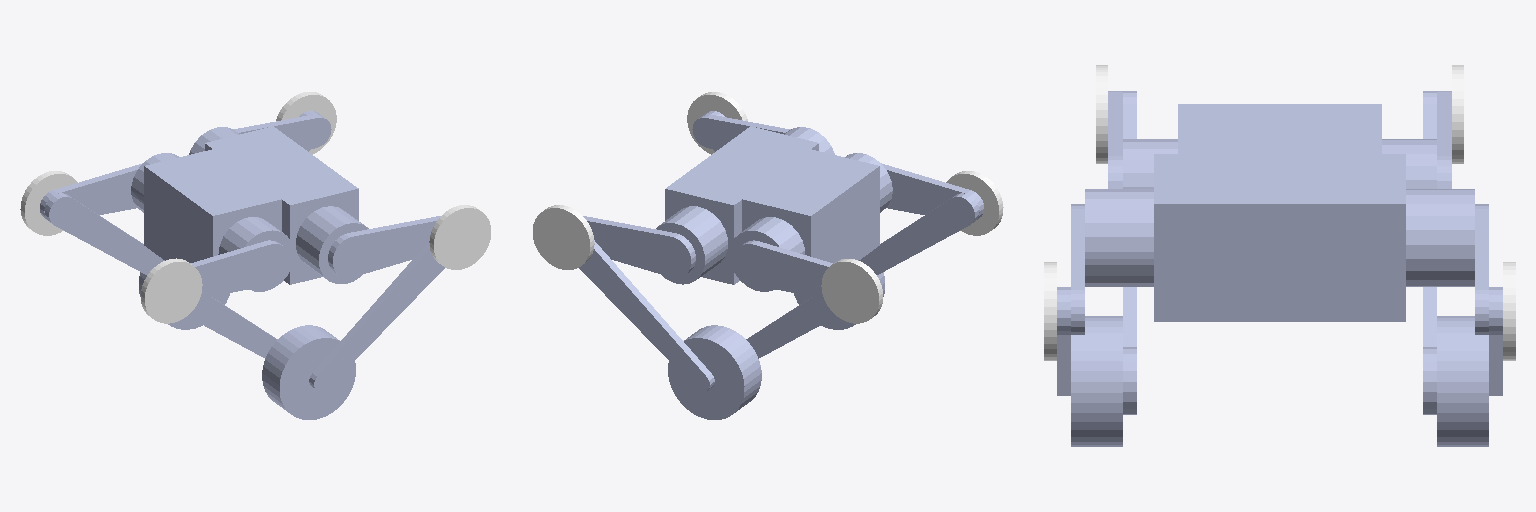
URDF robot description (fuzhulun):
<?xml version="1.0" encoding="utf-8"?>
<!-- This URDF was automatically created by SolidWorks to URDF Exporter! Originally created by [author] ([email redacted]) 
     Commit Version: 1.6.0-1-g15f4949  Build Version: 1.6.7594.29634
     For more information, please see http://wiki.ros.org/sw_urdf_exporter -->
<robot
  name="fuzhulun">
  <link
    name="base_link">
    <inertial>
      <origin
        xyz="7.9958716180818E-18 3.64890254428671E-18 -3.02970844583317E-18"
        rpy="0 0 0" />
      <mass
        value="4.563502045004" />
      <inertia
        ixx="0.0280984473320404"
        ixy="7.92687311370769E-17"
        ixz="2.14694526373619E-20"
        iyy="0.0169477927066625"
        iyz="1.08880015646914E-18"
        izz="0.0376783082336192" />
    </inertial>
    <visual>
      <origin
        xyz="0 0 0"
        rpy="0 0 0" />
      <geometry>
        <mesh
          filename="package://fuzhulun/meshes/base_link.STL" />
      </geometry>
      <material
        name="">
        <color
          rgba="0.792156862745098 0.819607843137255 0.933333333333333 1" />
      </material>
    </visual>
    <collision>
      <origin
        xyz="0 0 0"
        rpy="0 0 0" />
      <geometry>
        <mesh
          filename="package://fuzhulun/meshes/base_link.STL" />
      </geometry>
    </collision>
  </link>
  <link
    name="hip2thigh_lf">
    <inertial>
      <origin
        xyz="6.24976908737392E-18 -0.0614074661588189 -0.00575000000000156"
        rpy="0 0 0" />
      <mass
        value="0.0599999613849592" />
      <inertia
        ixx="0.000155906508351339"
        ixy="2.92696874835396E-21"
        ixz="-9.35046804636312E-21"
        iyy="1.13512134874171E-05"
        iyz="-7.89521073851116E-19"
        izz="0.000165935222689896" />
    </inertial>
    <visual>
      <origin
        xyz="0 0 0"
        rpy="0 0 0" />
      <geometry>
        <mesh
          filename="package://fuzhulun/meshes/hip2thigh_lf.STL" />
      </geometry>
      <material
        name="">
        <color
          rgba="0.792156862745098 0.819607843137255 0.933333333333333 1" />
      </material>
    </visual>
    <collision>
      <origin
        xyz="0 0 0"
        rpy="0 0 0" />
      <geometry>
        <mesh
          filename="package://fuzhulun/meshes/hip2thigh_lf.STL" />
      </geometry>
    </collision>
  </link>
  <joint
    name="hip_lf"
    type="continuous">
    <origin
      xyz="0.0424247110394242 0.156999999999999 0"
      rpy="1.5707963267949 -1.5707963267949 0" />
    <parent
      link="base_link" />
    <child
      link="hip2thigh_lf" />
    <axis
      xyz="0 0 1" />
  </joint>
  <link
    name="thigh2leg_lf">
    <inertial>
      <origin
        xyz="0 -0.10564758516642 -0.00575000000000064"
        rpy="0 0 0" />
      <mass
        value="0.0763000411167859" />
      <inertia
        ixx="0.000437218386664755"
        ixy="1.6940658945086E-21"
        ixz="1.95072209959967E-20"
        iyy="7.44363321133753E-06"
        iyz="1.46010727006436E-18"
        izz="0.000442980239803143" />
    </inertial>
    <visual>
      <origin
        xyz="0 0 0"
        rpy="0 0 0" />
      <geometry>
        <mesh
          filename="package://fuzhulun/meshes/thigh2leg_lf.STL" />
      </geometry>
      <material
        name="">
        <color
          rgba="0.792156862745098 0.819607843137255 0.933333333333333 1" />
      </material>
    </visual>
    <collision>
      <origin
        xyz="0 0 0"
        rpy="0 0 0" />
      <geometry>
        <mesh
          filename="package://fuzhulun/meshes/thigh2leg_lf.STL" />
      </geometry>
    </collision>
  </link>
  <joint
    name="knee_lf"
    type="continuous">
    <origin
      xyz="0 -0.14 -0.011500000000001"
      rpy="0 0 -2.46746214692248" />
    <parent
      link="hip2thigh_lf" />
    <child
      link="thigh2leg_lf" />
    <axis
      xyz="0 0 1" />
  </joint>
  <link
    name="leg2wheel_lf">
    <inertial>
      <origin
        xyz="6.41847686111419E-17 -8.32667268468867E-17 0.0207499999999986"
        rpy="0 0 0" />
      <mass
        value="0.521949966745835" />
      <inertia
        ixx="0.000441450058332931"
        ixy="-1.6940658945086E-21"
        ixz="2.07466425242616E-18"
        iyy="0.000441450058332931"
        iyz="-3.38231691806901E-20"
        izz="0.000733078728294525" />
    </inertial>
    <visual>
      <origin
        xyz="0 0 0"
        rpy="0 0 0" />
      <geometry>
        <mesh
          filename="package://fuzhulun/meshes/leg2wheel_lf.STL" />
      </geometry>
      <material
        name="">
        <color
          rgba="0.792156862745098 0.819607843137255 0.933333333333333 1" />
      </material>
    </visual>
    <collision>
      <origin
        xyz="0 0 0"
        rpy="0 0 0" />
      <geometry>
        <mesh
          filename="package://fuzhulun/meshes/leg2wheel_lf.STL" />
      </geometry>
    </collision>
  </link>
  <joint
    name="foot_lf"
    type="continuous">
    <origin
      xyz="0 -0.24 0"
      rpy="0 0 0.827377338905804" />
    <parent
      link="thigh2leg_lf" />
    <child
      link="leg2wheel_lf" />
    <axis
      xyz="0 0 1" />
  </joint>
  <link
    name="fuzhu_lf">
    <inertial>
      <origin
        xyz="-2.77555756156289E-17 -0.00500000000000037 -4.98255987470369E-18"
        rpy="0 0 0" />
      <mass
        value="0.0502654824574367" />
      <inertia
        ixx="2.05250720034533E-05"
        ixy="9.8478934528487E-20"
        ixz="-1.40981284252305E-35"
        iyy="4.02123859659494E-05"
        iyz="1.03737707309376E-21"
        izz="2.05250720034533E-05" />
    </inertial>
    <visual>
      <origin
        xyz="0 0 0"
        rpy="0 0 0" />
      <geometry>
        <mesh
          filename="package://fuzhulun/meshes/fuzhu_lf.STL" />
      </geometry>
      <material
        name="">
        <color
          rgba="1 1 1 1" />
      </material>
    </visual>
    <collision>
      <origin
        xyz="0 0 0"
        rpy="0 0 0" />
      <geometry>
        <mesh
          filename="package://fuzhulun/meshes/fuzhu_lf.STL" />
      </geometry>
    </collision>
  </link>
  <joint
    name="fuzhu_lf"
    type="continuous">
    <origin
      xyz="0 -0.14 -0.0230000000000016"
      rpy="1.5707963267949 0 -1.5707963267949" />
    <parent
      link="hip2thigh_lf" />
    <child
      link="fuzhu_lf" />
    <axis
      xyz="0 1 0" />
  </joint>
  <link
    name="hip2thigh_lb">
    <inertial>
      <origin
        xyz="-2.49021734345051E-18 -0.061407466158819 -0.0057500000000007"
        rpy="0 0 0" />
      <mass
        value="0.0539995474696858" />
      <inertia
        ixx="0.000140314771946862"
        ixy="-7.37238832554498E-21"
        ixz="6.14097015851312E-21"
        iyy="1.02160131007346E-05"
        iyz="6.95254959420047E-19"
        izz="0.000149340545022119" />
    </inertial>
    <visual>
      <origin
        xyz="0 0 0"
        rpy="0 0 0" />
      <geometry>
        <mesh
          filename="package://fuzhulun/meshes/hip2thigh_lb.STL" />
      </geometry>
      <material
        name="">
        <color
          rgba="0.792156862745098 0.819607843137255 0.933333333333333 1" />
      </material>
    </visual>
    <collision>
      <origin
        xyz="0 0 0"
        rpy="0 0 0" />
      <geometry>
        <mesh
          filename="package://fuzhulun/meshes/hip2thigh_lb.STL" />
      </geometry>
    </collision>
  </link>
  <joint
    name="hip_lb"
    type="continuous">
    <origin
      xyz="-0.0525752889605756 0.126999999999999 0"
      rpy="1.5707963267949 1.5707963267949 0" />
    <parent
      link="base_link" />
    <child
      link="hip2thigh_lb" />
    <axis
      xyz="0 0 1" />
  </joint>
  <link
    name="thigh2leg_lb">
    <inertial>
      <origin
        xyz="2.77555756156289E-17 -0.126725289376484 0.00574999999999845"
        rpy="0 0 0" />
      <mass
        value="0.0750000161747868" />
      <inertia
        ixx="0.000553987900915235"
        ixy="-6.69156028330897E-20"
        ixz="1.65224254282299E-20"
        iyy="9.43756802822456E-06"
        iyz="-3.30067795311841E-18"
        izz="0.00056177234358694" />
    </inertial>
    <visual>
      <origin
        xyz="0 0 0"
        rpy="0 0 0" />
      <geometry>
        <mesh
          filename="package://fuzhulun/meshes/thigh2leg_lb.STL" />
      </geometry>
      <material
        name="">
        <color
          rgba="0.792156862745098 0.819607843137255 0.933333333333333 1" />
      </material>
    </visual>
    <collision>
      <origin
        xyz="0 0 0"
        rpy="0 0 0" />
      <geometry>
        <mesh
          filename="package://fuzhulun/meshes/thigh2leg_lb.STL" />
      </geometry>
    </collision>
  </link>
  <joint
    name="knee_lb"
    type="continuous">
    <origin
      xyz="0 -0.14 0"
      rpy="0 0 2.46746214692248" />
    <parent
      link="hip2thigh_lb" />
    <child
      link="thigh2leg_lb" />
    <axis
      xyz="0 0 1" />
  </joint>
  <link
    name="leg2wheel_lb">
    <inertial>
      <origin
        xyz="-1.15359111152458E-16 -5.55111512312578E-17 -0.0207500000000007"
        rpy="0 0 0" />
      <mass
        value="0.521949966745835" />
      <inertia
        ixx="0.000441450058332931"
        ixy="-1.6940658945086E-21"
        ixz="2.07466425242616E-18"
        iyy="0.000441450058332931"
        iyz="-3.38231691806901E-20"
        izz="0.000733078728294525" />
    </inertial>
    <visual>
      <origin
        xyz="0 0 0"
        rpy="0 0 0" />
      <geometry>
        <mesh
          filename="package://fuzhulun/meshes/leg2wheel_lb.STL" />
      </geometry>
      <material
        name="">
        <color
          rgba="0.792156862745098 0.819607843137255 0.933333333333333 1" />
      </material>
    </visual>
    <collision>
      <origin
        xyz="0 0 0"
        rpy="0 0 0" />
      <geometry>
        <mesh
          filename="package://fuzhulun/meshes/leg2wheel_lb.STL" />
      </geometry>
    </collision>
  </link>
  <joint
    name="foot_lb"
    type="continuous">
    <origin
      xyz="0 -0.24 0"
      rpy="0 0 -0.965954301349358" />
    <parent
      link="thigh2leg_lb" />
    <child
      link="leg2wheel_lb" />
    <axis
      xyz="0 0 1" />
  </joint>
  <link
    name="fuzhu_lb">
    <inertial>
      <origin
        xyz="0 -0.00500000000000037 -9.42649753526637E-18"
        rpy="0 0 0" />
      <mass
        value="0.0502654824574367" />
      <inertia
        ixx="2.05250720034533E-05"
        ixy="9.73487745361297E-20"
        ixz="-8.7119466438191E-36"
        iyy="4.02123859659494E-05"
        iyz="5.77840026526481E-22"
        izz="2.05250720034533E-05" />
    </inertial>
    <visual>
      <origin
        xyz="0 0 0"
        rpy="0 0 0" />
      <geometry>
        <mesh
          filename="package://fuzhulun/meshes/fuzhu_lb.STL" />
      </geometry>
      <material
        name="">
        <color
          rgba="1 1 1 1" />
      </material>
    </visual>
    <collision>
      <origin
        xyz="0 0 0"
        rpy="0 0 0" />
      <geometry>
        <mesh
          filename="package://fuzhulun/meshes/fuzhu_lb.STL" />
      </geometry>
    </collision>
  </link>
  <joint
    name="fuzhu_lb"
    type="continuous">
    <origin
      xyz="0 -0.14 -0.0114999999999999"
      rpy="1.5707963267949 0 1.5707963267949" />
    <parent
      link="hip2thigh_lb" />
    <child
      link="fuzhu_lb" />
    <axis
      xyz="0 1 0" />
  </joint>
  <link
    name="hip2thigh_rf">
    <inertial>
      <origin
        xyz="3.75999866151112E-18 -0.061407466158819 0.00575000000000089"
        rpy="0 0 0" />
      <mass
        value="0.0599999613849593" />
      <inertia
        ixx="0.000155906508351339"
        ixy="9.66236293584646E-21"
        ixz="3.73574741794009E-24"
        iyy="1.13512134874171E-05"
        iyz="-1.08505463679496E-18"
        izz="0.000165935222689896" />
    </inertial>
    <visual>
      <origin
        xyz="0 0 0"
        rpy="0 0 0" />
      <geometry>
        <mesh
          filename="package://fuzhulun/meshes/hip2thigh_rf.STL" />
      </geometry>
      <material
        name="">
        <color
          rgba="0.792156862745098 0.819607843137255 0.933333333333333 1" />
      </material>
    </visual>
    <collision>
      <origin
        xyz="0 0 0"
        rpy="0 0 0" />
      <geometry>
        <mesh
          filename="package://fuzhulun/meshes/hip2thigh_rf.STL" />
      </geometry>
    </collision>
  </link>
  <joint
    name="hip_rf"
    type="continuous">
    <origin
      xyz="0.0424247110394264 -0.156999999999998 0"
      rpy="1.5707963267949 -1.5707963267949 0" />
    <parent
      link="base_link" />
    <child
      link="hip2thigh_rf" />
    <axis
      xyz="0 0 1" />
  </joint>
  <link
    name="thigh2leg_rf">
    <inertial>
      <origin
        xyz="2.77555756156289E-17 -0.10564758516642 0.00575000000000223"
        rpy="0 0 0" />
      <mass
        value="0.0763000411167858" />
      <inertia
        ixx="0.000437218386664754"
        ixy="-5.12454933088852E-20"
        ixz="2.47536067446951E-20"
        iyy="7.44363321133746E-06"
        iyz="2.37295512587168E-18"
        izz="0.000442980239803142" />
    </inertial>
    <visual>
      <origin
        xyz="0 0 0"
        rpy="0 0 0" />
      <geometry>
        <mesh
          filename="package://fuzhulun/meshes/thigh2leg_rf.STL" />
      </geometry>
      <material
        name="">
        <color
          rgba="0.792156862745098 0.819607843137255 0.933333333333333 1" />
      </material>
    </visual>
    <collision>
      <origin
        xyz="0 0 0"
        rpy="0 0 0" />
      <geometry>
        <mesh
          filename="package://fuzhulun/meshes/thigh2leg_rf.STL" />
      </geometry>
    </collision>
  </link>
  <joint
    name="knee_rf"
    type="continuous">
    <origin
      xyz="0 -0.14 0.0114999999999986"
      rpy="0 0 -2.46746214692248" />
    <parent
      link="hip2thigh_rf" />
    <child
      link="thigh2leg_rf" />
    <axis
      xyz="0 0 1" />
  </joint>
  <link
    name="leg2wheel_rf">
    <inertial>
      <origin
        xyz="5.55111512312578E-17 -1.2490009027033E-16 -0.0207499999999983"
        rpy="0 0 0" />
      <mass
        value="0.521949966745835" />
      <inertia
        ixx="0.00044145005833293"
        ixy="-6.7762635780344E-20"
        ixz="-9.00265480038554E-19"
        iyy="0.00044145005833293"
        iyz="1.86202171434693E-18"
        izz="0.000733078728294525" />
    </inertial>
    <visual>
      <origin
        xyz="0 0 0"
        rpy="0 0 0" />
      <geometry>
        <mesh
          filename="package://fuzhulun/meshes/leg2wheel_rf.STL" />
      </geometry>
      <material
        name="">
        <color
          rgba="0.792156862745098 0.819607843137255 0.933333333333333 1" />
      </material>
    </visual>
    <collision>
      <origin
        xyz="0 0 0"
        rpy="0 0 0" />
      <geometry>
        <mesh
          filename="package://fuzhulun/meshes/leg2wheel_rf.STL" />
      </geometry>
    </collision>
  </link>
  <joint
    name="foot_rf"
    type="continuous">
    <origin
      xyz="0 -0.24 0"
      rpy="0 0 -1.15869988791543" />
    <parent
      link="thigh2leg_rf" />
    <child
      link="leg2wheel_rf" />
    <axis
      xyz="0 0 1" />
  </joint>
  <link
    name="fuzhu_rf">
    <inertial>
      <origin
        xyz="0 -0.00500000000000056 1.37521984268062E-19"
        rpy="0 0 0" />
      <mass
        value="0.0502654824574367" />
      <inertia
        ixx="2.05250720034533E-05"
        ixy="-1.41793480672378E-19"
        ixz="-6.23687945093439E-35"
        iyy="4.02123859659494E-05"
        iyz="-1.44348156630938E-21"
        izz="2.05250720034533E-05" />
    </inertial>
    <visual>
      <origin
        xyz="0 0 0"
        rpy="0 0 0" />
      <geometry>
        <mesh
          filename="package://fuzhulun/meshes/fuzhu_rf.STL" />
      </geometry>
      <material
        name="">
        <color
          rgba="1 1 1 1" />
      </material>
    </visual>
    <collision>
      <origin
        xyz="0 0 0"
        rpy="0 0 0" />
      <geometry>
        <mesh
          filename="package://fuzhulun/meshes/fuzhu_rf.STL" />
      </geometry>
    </collision>
  </link>
  <joint
    name="fuzhu_rf"
    type="continuous">
    <origin
      xyz="0 -0.14 0.0229999999999997"
      rpy="-1.5707963267949 0 -1.5707963267949" />
    <parent
      link="hip2thigh_rf" />
    <child
      link="fuzhu_rf" />
    <axis
      xyz="0 -1 0" />
  </joint>
  <link
    name="hip2thigh_rb">
    <inertial>
      <origin
        xyz="2.6269664293846E-18 -0.0614074661588188 0.0057500000000017"
        rpy="0 0 0" />
      <mass
        value="0.0539995474696858" />
      <inertia
        ixx="0.000140314771946862"
        ixy="8.79161511338388E-21"
        ixz="-8.22543354868634E-23"
        iyy="1.02160131007346E-05"
        iyz="9.6713939187654E-19"
        izz="0.000149340545022119" />
    </inertial>
    <visual>
      <origin
        xyz="0 0 0"
        rpy="0 0 0" />
      <geometry>
        <mesh
          filename="package://fuzhulun/meshes/hip2thigh_rb.STL" />
      </geometry>
      <material
        name="">
        <color
          rgba="0.792156862745098 0.819607843137255 0.933333333333333 1" />
      </material>
    </visual>
    <collision>
      <origin
        xyz="0 0 0"
        rpy="0 0 0" />
      <geometry>
        <mesh
          filename="package://fuzhulun/meshes/hip2thigh_rb.STL" />
      </geometry>
    </collision>
  </link>
  <joint
    name="hip_rb"
    type="continuous">
    <origin
      xyz="-0.0525752889605738 -0.126999999999999 0"
      rpy="1.5707963267949 1.5707963267949 0" />
    <parent
      link="base_link" />
    <child
      link="hip2thigh_rb" />
    <axis
      xyz="0 0 1" />
  </joint>
  <link
    name="thigh2leg_rb">
    <inertial>
      <origin
        xyz="1.38777878078145E-17 -0.126725289376484 -0.00574999999999939"
        rpy="0 0 0" />
      <mass
        value="0.0750000161747868" />
      <inertia
        ixx="0.000553987900915235"
        ixy="8.173867941004E-20"
        ixz="3.55063939914085E-20"
        iyy="9.43756802822453E-06"
        iyz="-3.08532383538705E-18"
        izz="0.00056177234358694" />
    </inertial>
    <visual>
      <origin
        xyz="0 0 0"
        rpy="0 0 0" />
      <geometry>
        <mesh
          filename="package://fuzhulun/meshes/thigh2leg_rb.STL" />
      </geometry>
      <material
        name="">
        <color
          rgba="0.792156862745098 0.819607843137255 0.933333333333333 1" />
      </material>
    </visual>
    <collision>
      <origin
        xyz="0 0 0"
        rpy="0 0 0" />
      <geometry>
        <mesh
          filename="package://fuzhulun/meshes/thigh2leg_rb.STL" />
      </geometry>
    </collision>
  </link>
  <joint
    name="knee_rb"
    type="continuous">
    <origin
      xyz="0 -0.14 0"
      rpy="0 0 2.46746214692248" />
    <parent
      link="hip2thigh_rb" />
    <child
      link="thigh2leg_rb" />
    <axis
      xyz="0 0 1" />
  </joint>
  <link
    name="leg2wheel_rb">
    <inertial>
      <origin
        xyz="-8.32667268468867E-17 1.2490009027033E-16 0.020750000000001"
        rpy="0 0 0" />
      <mass
        value="0.521949966745835" />
      <inertia
        ixx="0.00044145005833293"
        ixy="-6.7762635780344E-20"
        ixz="-9.00265480038554E-19"
        iyy="0.00044145005833293"
        iyz="1.86202171434693E-18"
        izz="0.000733078728294525" />
    </inertial>
    <visual>
      <origin
        xyz="0 0 0"
        rpy="0 0 0" />
      <geometry>
        <mesh
          filename="package://fuzhulun/meshes/leg2wheel_rb.STL" />
      </geometry>
      <material
        name="">
        <color
          rgba="0.792156862745098 0.819607843137255 0.933333333333333 1" />
      </material>
    </visual>
    <collision>
      <origin
        xyz="0 0 0"
        rpy="0 0 0" />
      <geometry>
        <mesh
          filename="package://fuzhulun/meshes/leg2wheel_rb.STL" />
      </geometry>
    </collision>
  </link>
  <joint
    name="foot_rb"
    type="continuous">
    <origin
      xyz="0 -0.24 0"
      rpy="0 0 -2.95203152817059" />
    <parent
      link="thigh2leg_rb" />
    <child
      link="leg2wheel_rb" />
    <axis
      xyz="0 0 1" />
  </joint>
  <link
    name="fuzhu_rb">
    <inertial>
      <origin
        xyz="-5.55111512312578E-17 -0.00500000000000056 -1.81618792017544E-18"
        rpy="0 0 0" />
      <mass
        value="0.0502654824574367" />
      <inertia
        ixx="2.05250720034533E-05"
        ixy="-1.37064390769696E-19"
        ixz="-3.54309943894681E-35"
        iyy="4.02123859659494E-05"
        iyz="-1.15312764943136E-21"
        izz="2.05250720034533E-05" />
    </inertial>
    <visual>
      <origin
        xyz="0 0 0"
        rpy="0 0 0" />
      <geometry>
        <mesh
          filename="package://fuzhulun/meshes/fuzhu_rb.STL" />
      </geometry>
      <material
        name="">
        <color
          rgba="1 1 1 1" />
      </material>
    </visual>
    <collision>
      <origin
        xyz="0 0 0"
        rpy="0 0 0" />
      <geometry>
        <mesh
          filename="package://fuzhulun/meshes/fuzhu_rb.STL" />
      </geometry>
    </collision>
  </link>
  <joint
    name="fuzhu_rb"
    type="continuous">
    <origin
      xyz="0 -0.14 0.0115000000000017"
      rpy="-1.5707963267949 0 1.5707963267949" />
    <parent
      link="hip2thigh_rb" />
    <child
      link="fuzhu_rb" />
    <axis
      xyz="0 -1 0" />
  </joint>
</robot>

--- Render facts (derived) ---
3 views of the same robot in one strip: view 1: azimuth 30°, elevation 25°; view 2: azimuth 150°, elevation 25°; view 3: azimuth 270°, elevation 25° (orthographic).
Model fuzhulun with 17 links and 16 joints (16 continuous), rooted at base_link, posed every joint at zero.
Visible links, largest first — view 1: base_link, leg2wheel_rf, thigh2leg_rf, hip2thigh_rf, hip2thigh_rb, thigh2leg_lb, fuzhu_rb, fuzhu_rf, hip2thigh_lb, thigh2leg_rb, fuzhu_lb, hip2thigh_lf (+1 smaller); view 2: base_link, leg2wheel_lf, thigh2leg_lf, hip2thigh_lf, hip2thigh_lb, thigh2leg_rb, fuzhu_lf, fuzhu_lb, hip2thigh_rb, thigh2leg_lb, fuzhu_rb, hip2thigh_rf (+1 smaller); view 3: base_link, leg2wheel_rf, leg2wheel_lf, thigh2leg_lb, thigh2leg_rb, hip2thigh_lf, hip2thigh_rf, thigh2leg_lf, thigh2leg_rf, hip2thigh_lb, hip2thigh_rb, fuzhu_lf (+4 smaller).
Boxes of the visible links, x1=… form: base_link: x1=131, y1=126, x2=368, y2=291; leg2wheel_rf: x1=262, y1=325, x2=355, y2=419; thigh2leg_rf: x1=309, y1=240, x2=444, y2=391; hip2thigh_rf: x1=328, y1=216, x2=440, y2=277; hip2thigh_rb: x1=190, y1=240, x2=289, y2=298; thigh2leg_lb: x1=44, y1=193, x2=216, y2=298; fuzhu_rb: x1=140, y1=258, x2=202, y2=323; fuzhu_rf: x1=429, y1=205, x2=490, y2=269; hip2thigh_lb: x1=40, y1=163, x2=142, y2=219; thigh2leg_rb: x1=187, y1=297, x2=277, y2=357; fuzhu_lb: x1=20, y1=171, x2=77, y2=235; hip2thigh_lf: x1=233, y1=114, x2=331, y2=150; base_link: x1=656, y1=126, x2=892, y2=291; leg2wheel_lf: x1=668, y1=325, x2=761, y2=419; thigh2leg_lf: x1=579, y1=240, x2=714, y2=391; hip2thigh_lf: x1=583, y1=216, x2=695, y2=277; hip2thigh_lb: x1=734, y1=240, x2=832, y2=298; thigh2leg_rb: x1=807, y1=193, x2=979, y2=298; fuzhu_lf: x1=533, y1=205, x2=594, y2=269; fuzhu_lb: x1=821, y1=259, x2=882, y2=323; hip2thigh_rb: x1=881, y1=163, x2=983, y2=219; thigh2leg_lb: x1=746, y1=297, x2=836, y2=358; fuzhu_rb: x1=946, y1=171, x2=1003, y2=235; hip2thigh_rf: x1=692, y1=114, x2=790, y2=150; base_link: x1=1085, y1=104, x2=1474, y2=321; leg2wheel_rf: x1=1071, y1=316, x2=1122, y2=446; leg2wheel_lf: x1=1437, y1=316, x2=1488, y2=446; thigh2leg_lb: x1=1423, y1=91, x2=1436, y2=414; thigh2leg_rb: x1=1123, y1=91, x2=1136, y2=414; hip2thigh_lf: x1=1475, y1=204, x2=1488, y2=334; hip2thigh_rf: x1=1071, y1=204, x2=1084, y2=334; thigh2leg_lf: x1=1489, y1=287, x2=1502, y2=395; thigh2leg_rf: x1=1057, y1=287, x2=1070, y2=395; hip2thigh_lb: x1=1437, y1=91, x2=1451, y2=188; hip2thigh_rb: x1=1108, y1=91, x2=1122, y2=188; fuzhu_lf: x1=1503, y1=262, x2=1515, y2=360.
Size in the robot's own frame: 0.4549 by 0.38 by 0.2553 metres.
Meshes: 17 distinct files referenced, 17 mesh visuals loaded (17 binary STL).
